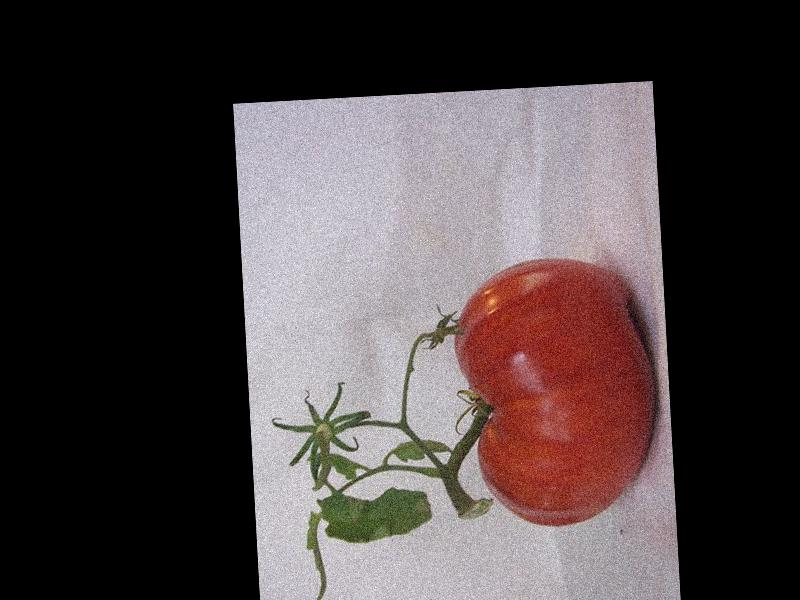Tomato: (450, 252, 663, 532)
